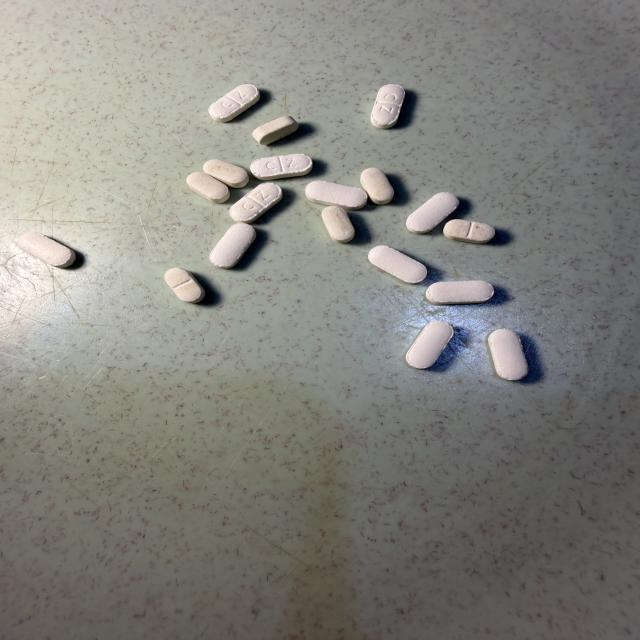pill: (406, 321, 453, 369), (369, 246, 427, 283), (406, 193, 459, 233), (210, 223, 256, 268), (18, 232, 75, 268), (488, 329, 528, 380), (230, 183, 282, 222), (209, 85, 260, 122), (306, 181, 367, 209), (425, 281, 494, 304), (250, 154, 312, 179), (371, 85, 405, 128), (165, 268, 205, 302), (204, 159, 249, 188), (187, 172, 229, 203), (253, 116, 298, 144), (361, 168, 394, 204), (444, 220, 495, 243), (322, 206, 354, 242)
